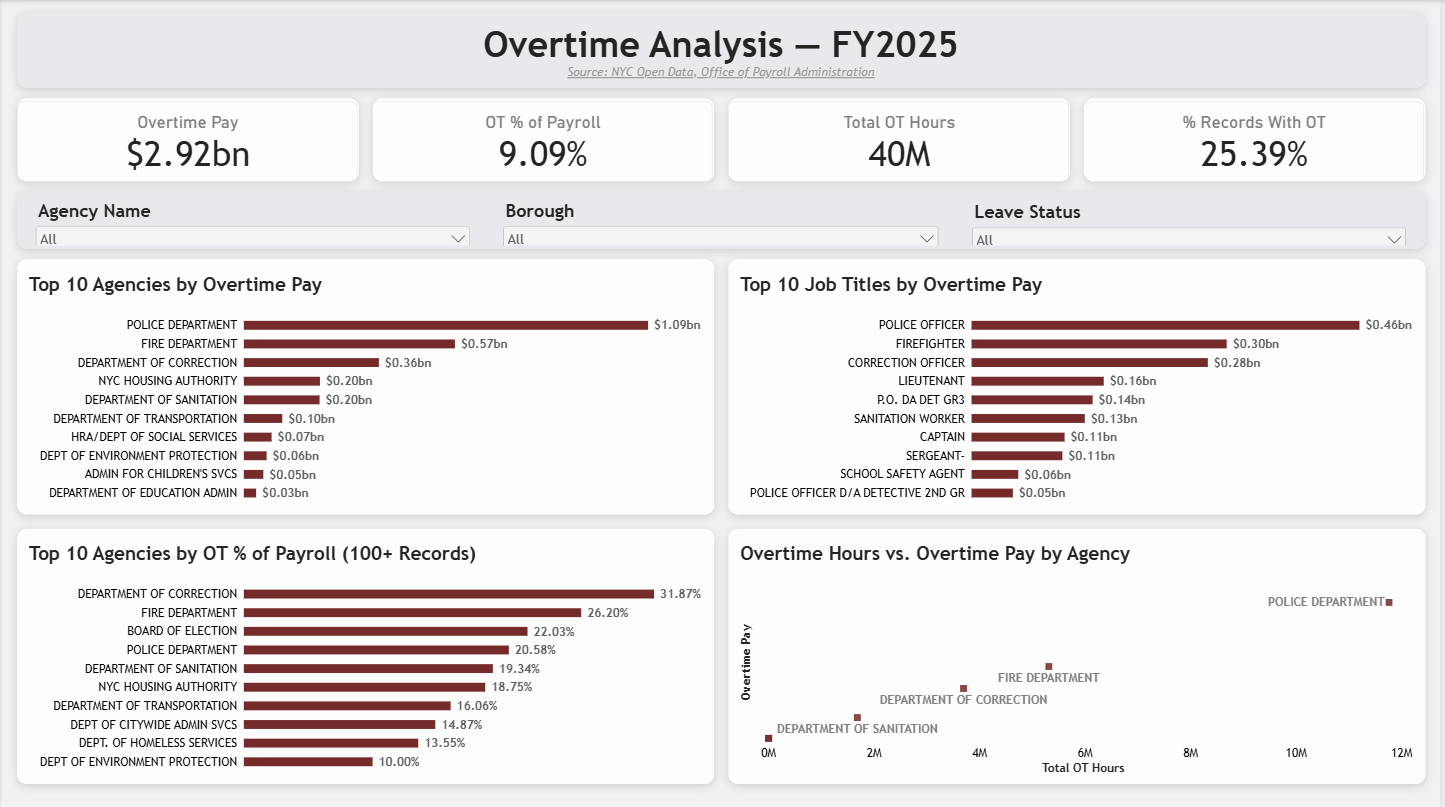

Layout of this report page (visuals, bound fields, positions):
{"tool":"powerbi","page":{"name":"Overtime Analysis","canvas":[1920,1080],"ordinal":1},"visuals":[{"type":"textbox","box":[47.9,31.3,1823.9,90.2],"z":0},{"type":"cardVisual","title":"Card1","fields":{"Data":["Payroll.Overtime Pay"]},"box":[20,135,455,110],"z":1000},{"type":"cardVisual","title":"Card2","fields":{"Data":["Payroll.OT % of Payroll"]},"box":[495,135,455,110],"z":2000},{"type":"cardVisual","title":"Card3","fields":{"Data":["Payroll.Total OT Hours"]},"box":[970,135,455,110],"z":3000},{"type":"cardVisual","title":"Card4","fields":{"Data":["Payroll.% Records With OT"]},"box":[1445,135,455,110],"z":4000},{"type":"clusteredBarChart","title":"Top 10 Agencies by Overtime Pay","fields":{"Category":["Payroll.Agency Name"],"Y":["Payroll.Overtime Pay"]},"box":[20,350,930,340],"z":5000},{"type":"clusteredBarChart","title":"Top 10 Agencies by OT % of Payroll (100+ Records)","fields":{"Category":["Payroll.Agency Name"],"Y":["Payroll.OT % of Payroll"]},"box":[20,710,930,340],"z":6000},{"type":"clusteredBarChart","title":"Top 10 Job Titles by Overtime Pay","fields":{"Category":["Payroll.Title Description"],"Y":["Payroll.Overtime Pay"]},"box":[970,350,930,340],"z":7000},{"type":"scatterChart","title":"Overtime Hours vs. Overtime Pay by Agency","fields":{"Category":["Payroll.Agency Name"],"X":["Payroll.Total OT Hours"],"Y":["Payroll.Overtime Pay"]},"box":[970,710,930,340],"z":8000},{"type":"slicer","title":"Slicer1","fields":{"Values":["Payroll.Agency Name"]},"box":[40.1,266.9,589.5,61],"z":9000},{"type":"slicer","title":"Slicer2","fields":{"Values":["Payroll.Borough"]},"box":[664.5,266.9,591.3,61],"z":10000},{"type":"slicer","title":"Slicer3","fields":{"Values":["Payroll.Leave Status"]},"box":[1290.7,268.6,589.5,59.3],"z":11000}]}

Visuals, with their boxes in screenshot pixels (x1, y1, x2, y2), scaled from the page's 1920x1080 canvas onto the 1445x807 screenshot:
textbox: <bbox>36, 23, 1409, 91</bbox>
"Card1" cardVisual: <bbox>15, 101, 357, 183</bbox>
"Card2" cardVisual: <bbox>373, 101, 715, 183</bbox>
"Card3" cardVisual: <bbox>730, 101, 1072, 183</bbox>
"Card4" cardVisual: <bbox>1088, 101, 1430, 183</bbox>
"Top 10 Agencies by Overtime Pay" clusteredBarChart: <bbox>15, 262, 715, 516</bbox>
"Top 10 Agencies by OT % of Payroll (100+ Records)" clusteredBarChart: <bbox>15, 531, 715, 785</bbox>
"Top 10 Job Titles by Overtime Pay" clusteredBarChart: <bbox>730, 262, 1430, 516</bbox>
"Overtime Hours vs. Overtime Pay by Agency" scatterChart: <bbox>730, 531, 1430, 785</bbox>
"Slicer1" slicer: <bbox>30, 199, 474, 245</bbox>
"Slicer2" slicer: <bbox>500, 199, 945, 245</bbox>
"Slicer3" slicer: <bbox>971, 201, 1415, 245</bbox>
